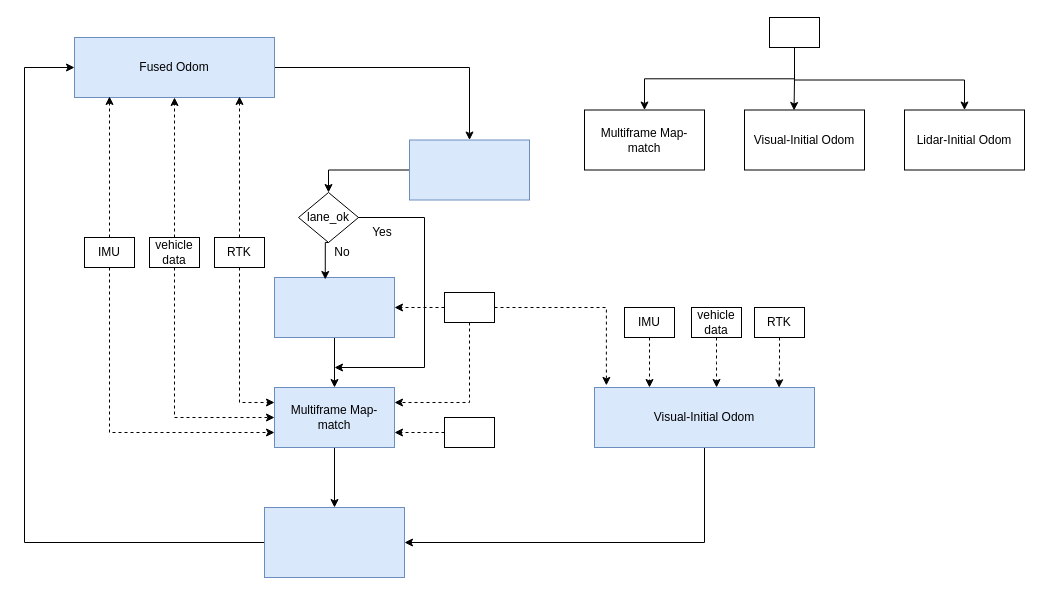
Some shapes in this 1042 by 595 pixel diagram are drawn without their labels. The centre of each missing label's shape, as x and y in pixels:
HD data: the point at 469,432
Lane Loc: the point at 334,307
Lidar: the point at 794,32
Road Loc: the point at 469,169
State Machine: the point at 334,542
Vision data: the point at 469,307
